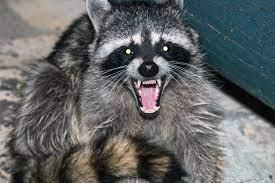raccoon: (0, 0, 245, 183)
